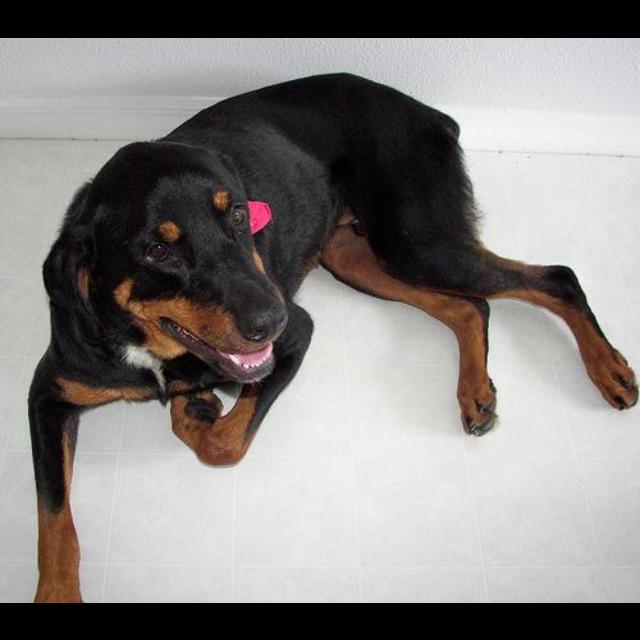rottweiler: (27, 70, 640, 602)
